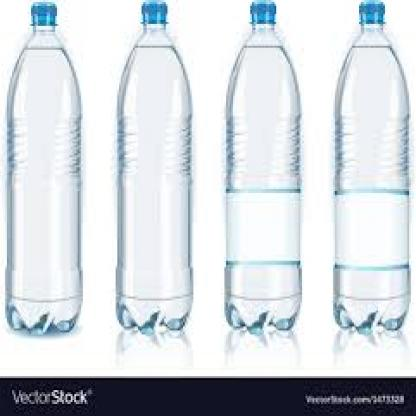Plastic: (222, 6, 312, 338), (110, 3, 198, 336), (332, 4, 413, 346), (5, 0, 86, 338)
